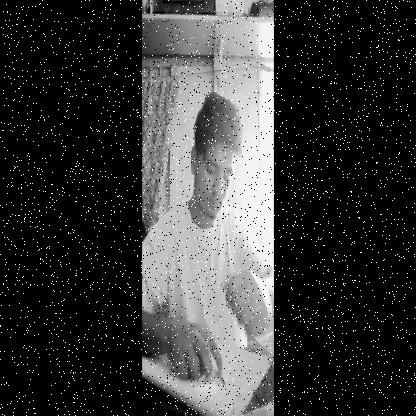Distracted: (192, 93, 245, 224)
